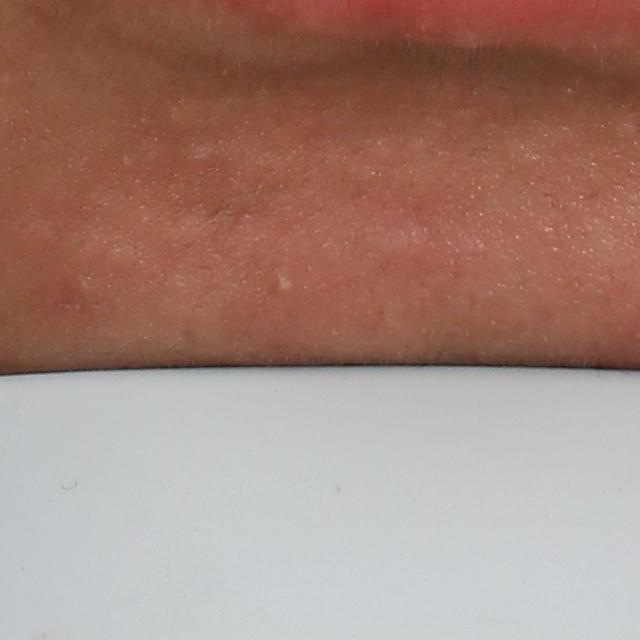comedo: (268, 266, 297, 299)
hypertrophic_scar: (370, 231, 435, 259)
